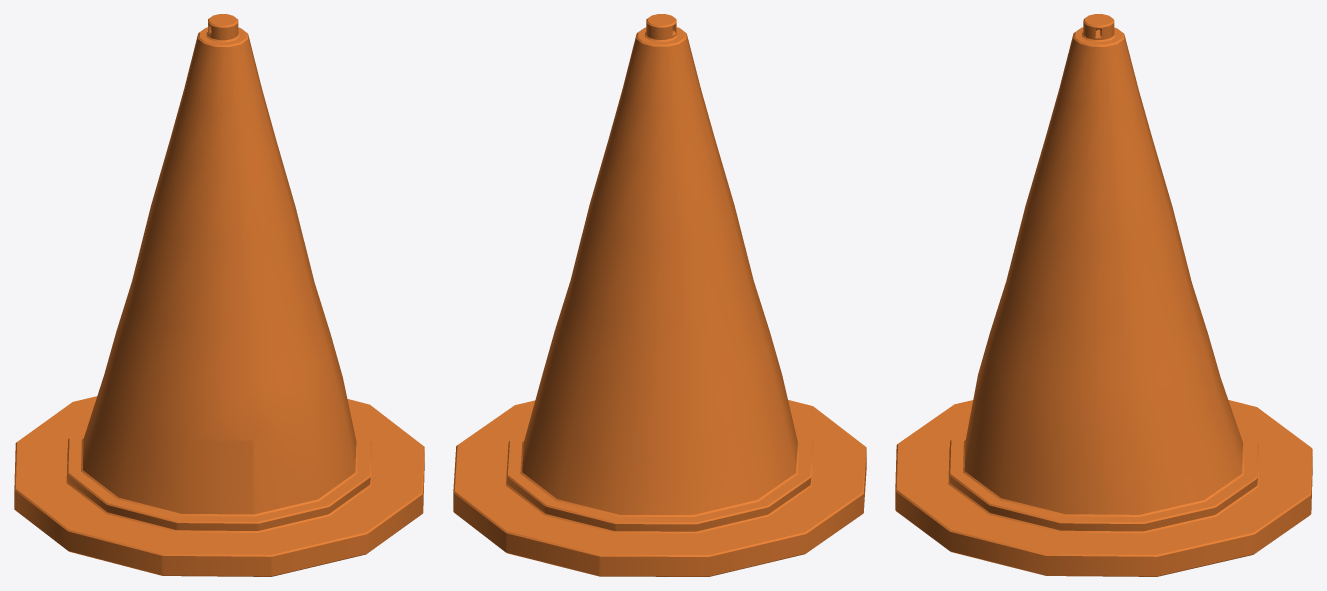
The picture shows the model from 3 angles, left to right: view 1: azimuth 30°, elevation 25°; view 2: azimuth 150°, elevation 25°; view 3: azimuth 270°, elevation 25°; orthographic projection.
Parts seen in each view (by area): view 1: Cones; view 2: Cones; view 3: Cones.
Boxes of the visible parts, x1=… form: Cones: x1=14, y1=14, x2=424, y2=576; Cones: x1=453, y1=14, x2=866, y2=576; Cones: x1=895, y1=14, x2=1312, y2=576.
Bounding box in the file's own units: 57.72 × 72.91 × 58.52.
